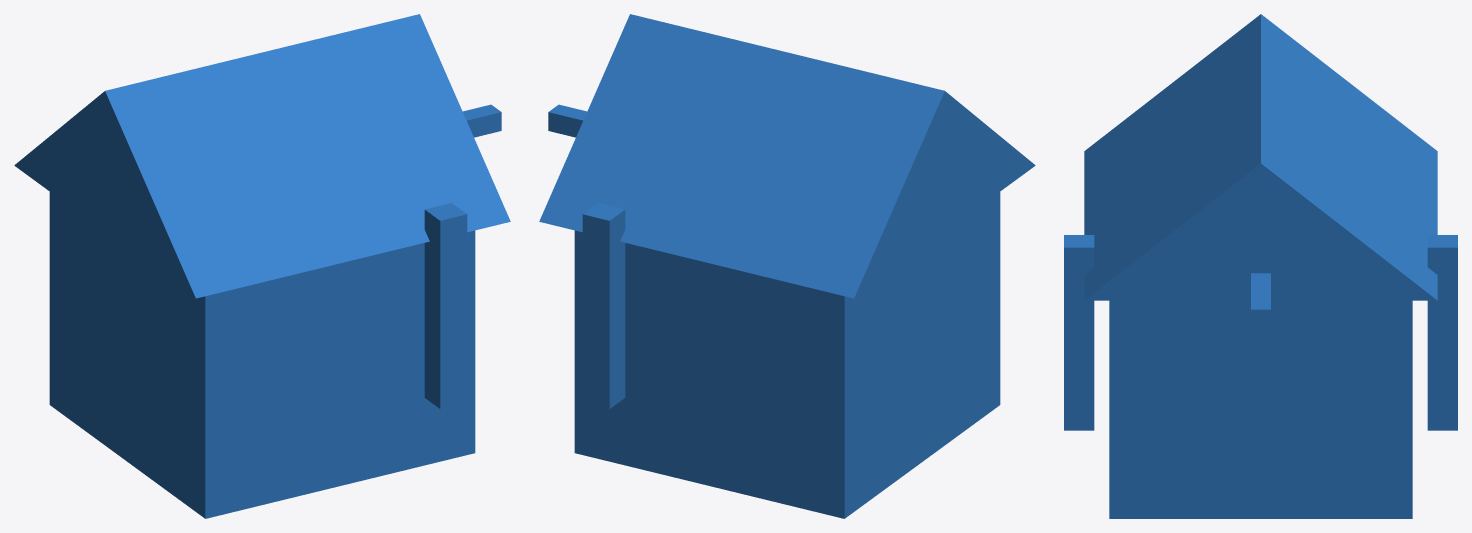
Rendered from fishery.obj.
3 views of the same model, side by side, from view 1: azimuth 30°, elevation 25°; view 2: azimuth 150°, elevation 25°; view 3: azimuth 270°, elevation 25° (orthographic). The views are drawn at different scales.
Bounding box in the file's own units: 0.435 × 0.4 × 0.39.
